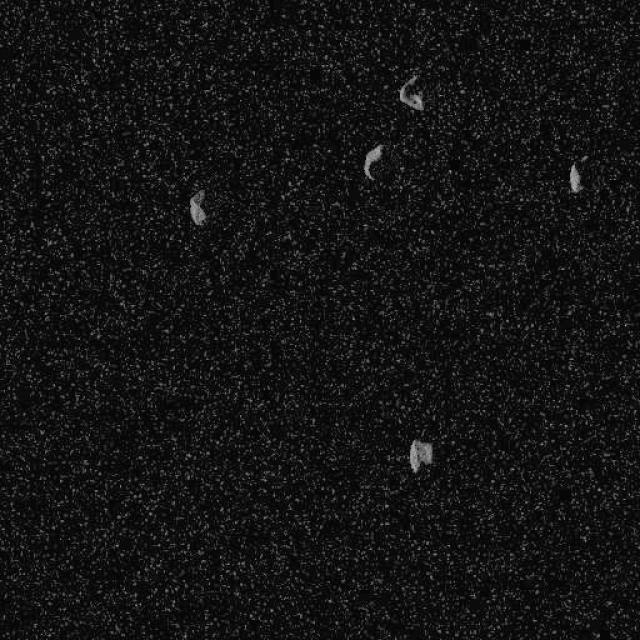D2: (398, 74, 423, 111), (362, 142, 383, 182), (408, 438, 432, 472), (188, 189, 208, 225), (568, 161, 582, 194)
